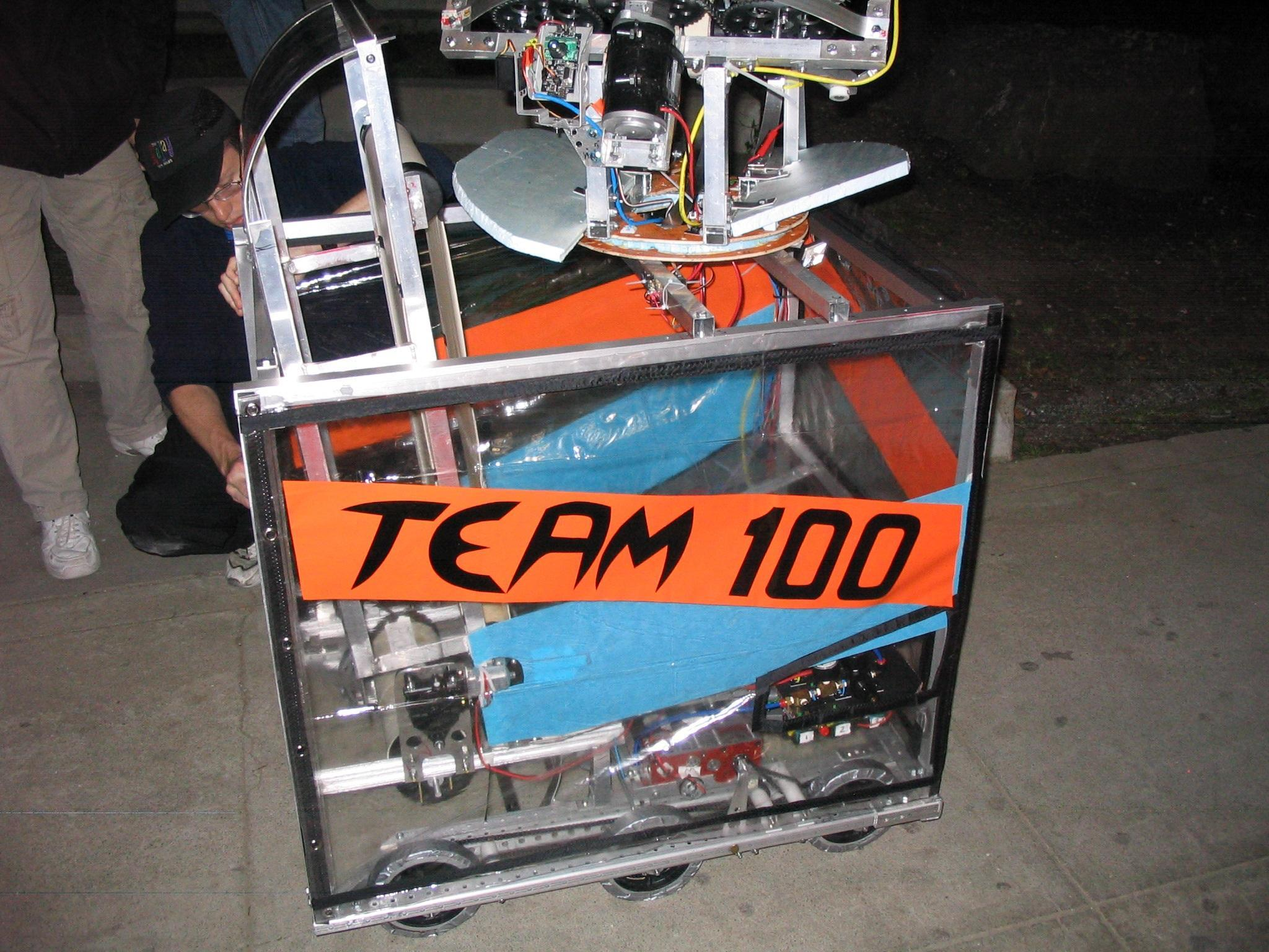robot: (218, 0, 1025, 952)
